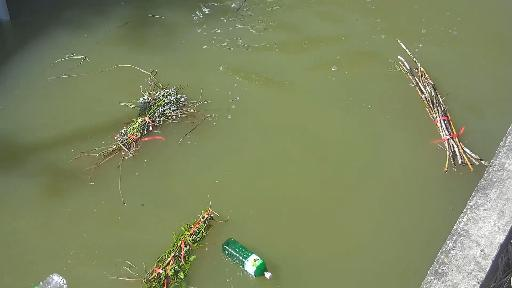plastic: (223, 239, 286, 284), (31, 259, 76, 288)
twig: (67, 8, 204, 182), (391, 39, 482, 185), (120, 198, 234, 288), (215, 0, 252, 17)
